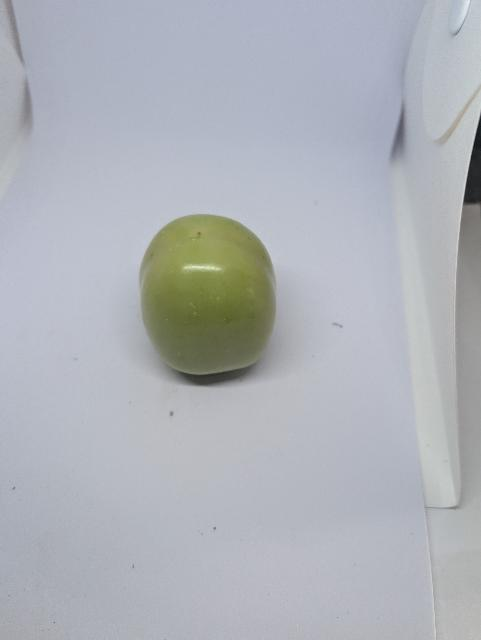green: (127, 202, 291, 400)
